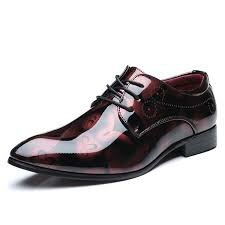Formal: (6, 63, 221, 185)
